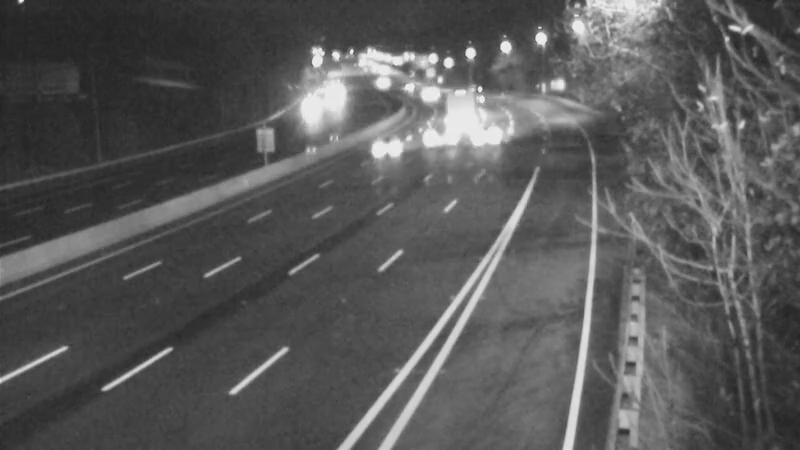vehicle: (356, 60, 406, 110), (379, 63, 429, 113), (402, 69, 452, 119), (440, 84, 490, 134), (466, 106, 516, 156), (419, 109, 469, 159), (362, 123, 412, 173), (287, 86, 337, 136)
